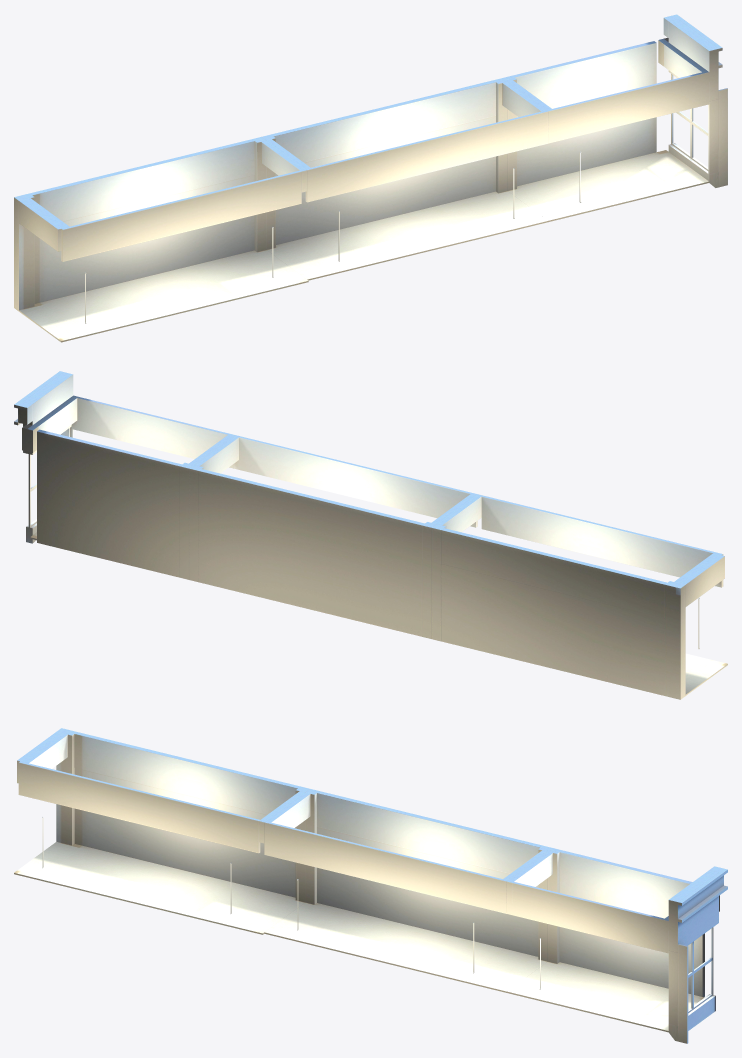
3 views of the same model, one above another, from view 1: azimuth 30°, elevation 25°; view 2: azimuth 150°, elevation 25°; view 3: azimuth 330°, elevation 25° (orthographic).
Parts seen in each view (by area): view 1: hc_2floor_room002 (1)_1, hc_2floor_room007 (1)_2, hc_2floor_room030 (1)_3; view 2: hc_2floor_room002 (1)_1, hc_2floor_room007 (1)_2, hc_2floor_room030 (1)_3; view 3: hc_2floor_room002 (1)_1, hc_2floor_room007 (1)_2, hc_2floor_room030 (1)_3.
Boxes of the visible parts, x1,y1,x2,y2 form: hc_2floor_room002 (1)_1: [14, 137, 308, 342]; hc_2floor_room007 (1)_2: [261, 78, 548, 280]; hc_2floor_room030 (1)_3: [503, 14, 727, 221]; hc_2floor_room002 (1)_1: [431, 494, 727, 699]; hc_2floor_room007 (1)_2: [189, 435, 477, 638]; hc_2floor_room030 (1)_3: [14, 371, 234, 579]; hc_2floor_room002 (1)_1: [14, 728, 309, 934]; hc_2floor_room007 (1)_2: [264, 789, 552, 992]; hc_2floor_room030 (1)_3: [507, 848, 727, 1043].
Size of the model in its own units: 2.49 by 0.4943 by 0.305.
Materials: 3 (3 with a texture image).
